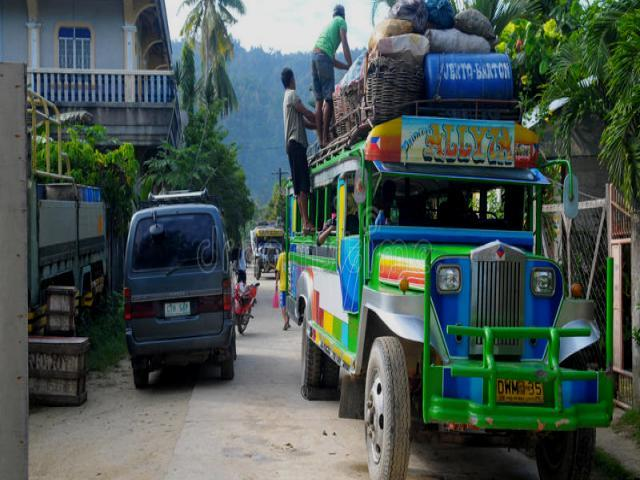jeepney: (276, 123, 631, 480), (250, 213, 286, 287)
